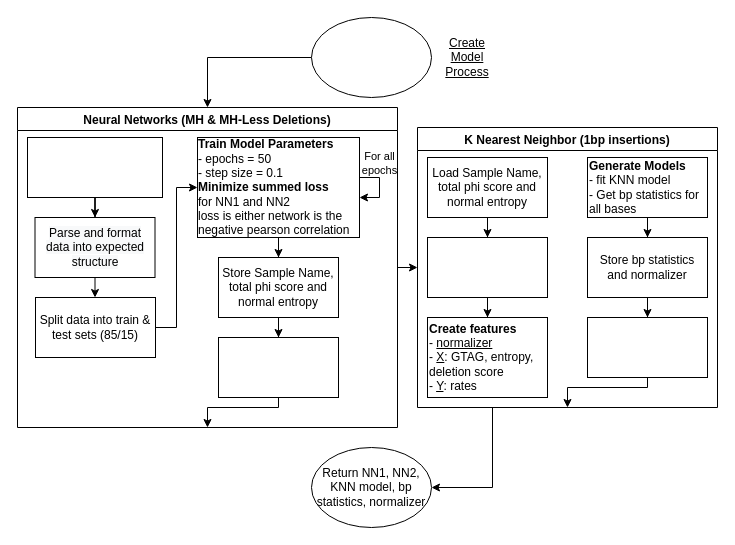
This 735x545 diagram has some shape labels left out. Here are the shapes that lost their labels. From the top down, the centre of each, then its label:
At (371,57): "Start".
At (94,167): "Initialize both models NN1 = 2x16x16x1 NN2= 1x16x16x1".
At (487,267): "Get all rate statistics having Entropy > 0.01".
At (278,367): "Return NN1 and NN2".
At (647,347): "Return KNN model, bp statistics and normlaizer".
